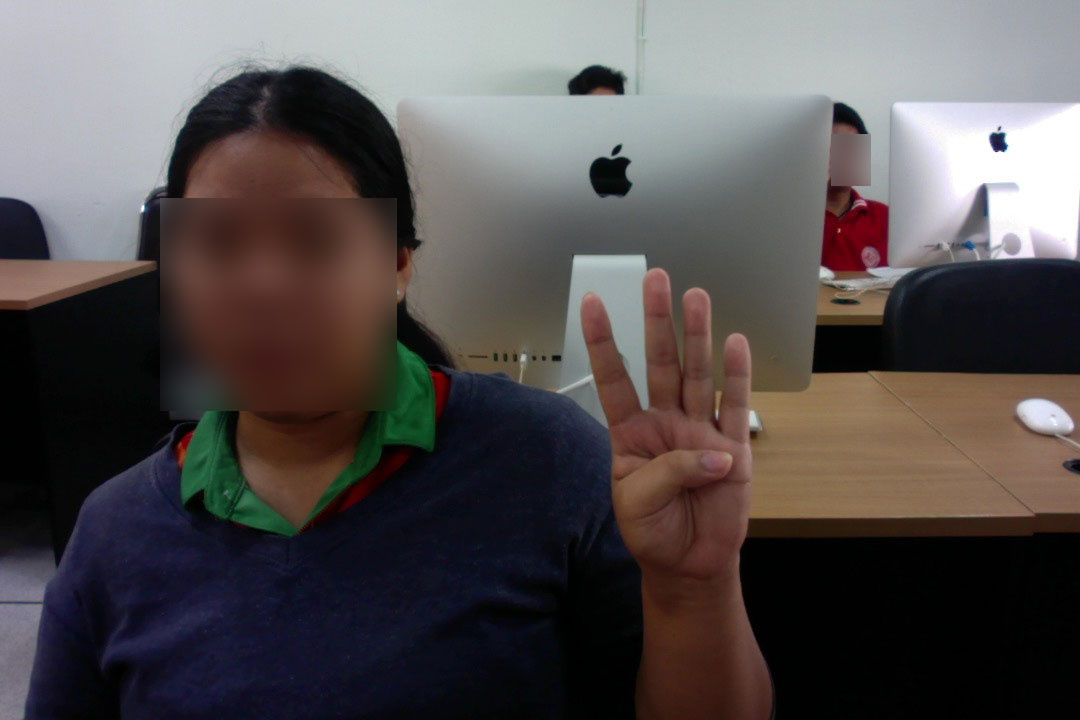bor: (570, 253, 759, 592)
